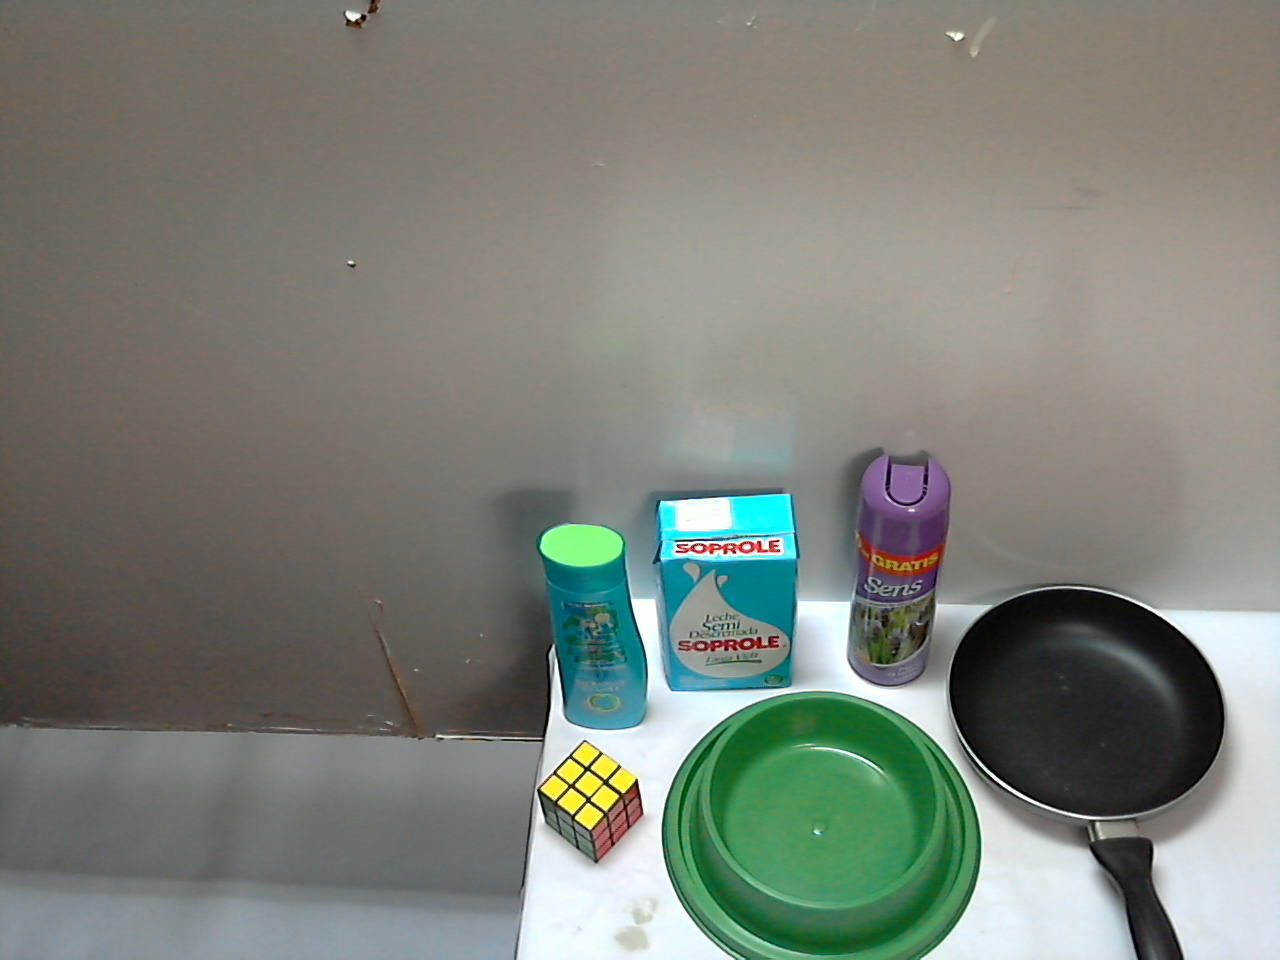confort: (835, 523, 1146, 904)
greda: (446, 744, 677, 956)
limon: (674, 869, 826, 960)
papas: (671, 495, 816, 773)
pelota: (721, 761, 823, 870)
te: (498, 603, 660, 754)
